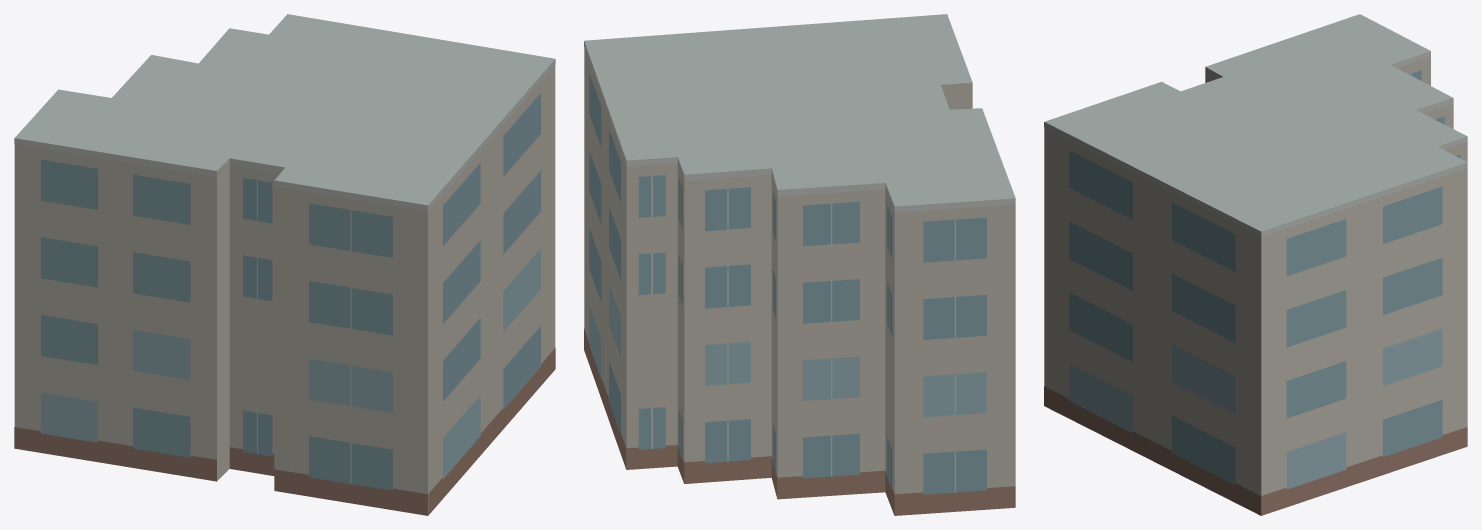
The model's file is survey-upis-32844133.glb.
3 renders of one model, left to right at view 1: azimuth 30°, elevation 25°; view 2: azimuth 150°, elevation 25°; view 3: azimuth 270°, elevation 25°, orthographic. The views are drawn at different scales.
Parts seen in each view (by area): view 1: survey-upis-32844133.tmp; view 2: survey-upis-32844133.tmp; view 3: survey-upis-32844133.tmp.
Boxes of the visible parts, box(x1,y1,x2,y2) form: survey-upis-32844133.tmp: box(14, 14, 555, 515); survey-upis-32844133.tmp: box(584, 14, 1015, 515); survey-upis-32844133.tmp: box(1044, 14, 1467, 515).
Size of the model in its own units: 20.04 by 12.2 by 16.48.
